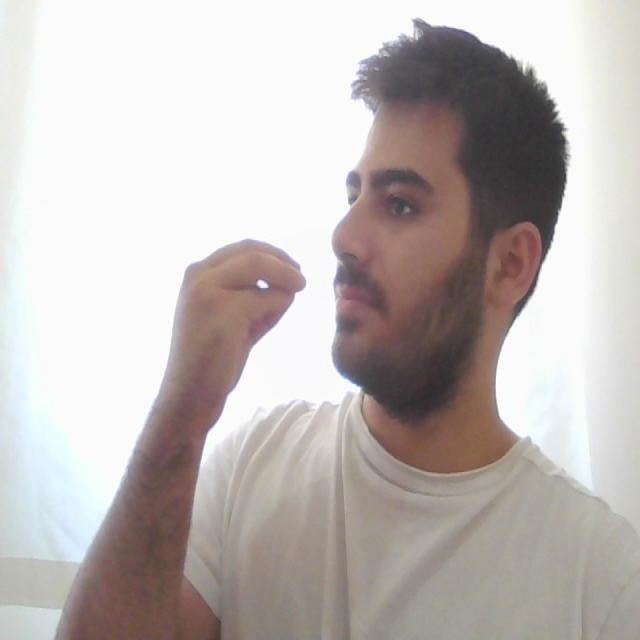Yemek: (163, 241, 390, 359)
